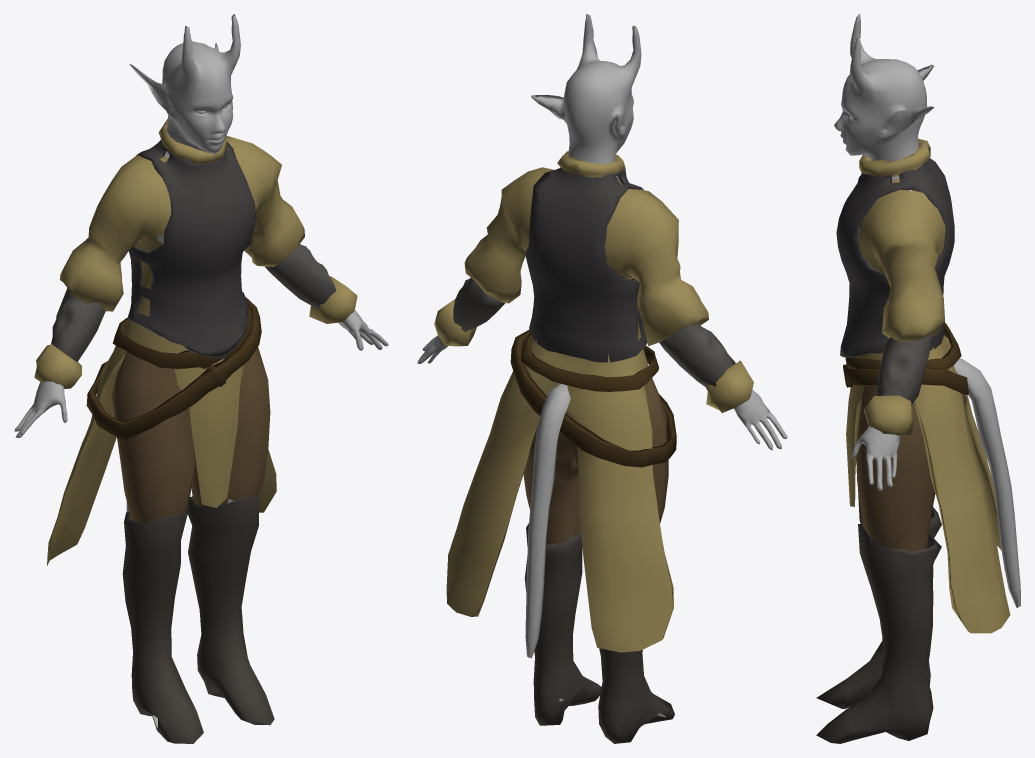
The model's file is phren_low.fbx.
3 renders of one model, left to right at view 1: azimuth 30°, elevation 25°; view 2: azimuth 150°, elevation 25°; view 3: azimuth 270°, elevation 25°, orthographic.
Parts seen in each view (by area): view 1: Clothes_low, Boots_low, Chestpiece_low, Pants_low, Body_low, Armguard_low, Beltlower_low, Beltupper_low; view 2: Clothes_low, Chestpiece_low, Body_low, Boots_low, Pants_low, Armguard_low, Beltlower_low, Beltupper_low; view 3: Clothes_low, Boots_low, Body_low, Chestpiece_low, Pants_low, Armguard_low, Beltlower_low, Beltupper_low.
Boxes of the visible parts, x1,y1,x2,y2 form: Clothes_low: (34,118,357,565); Boots_low: (122,495,274,743); Chestpiece_low: (127,140,255,358); Pants_low: (112,347,270,522); Body_low: (14,14,388,727); Armguard_low: (51,244,335,361); Beltlower_low: (86,297,261,440); Beltupper_low: (112,305,252,369); Clothes_low: (434,151,753,652); Chestpiece_low: (525,167,647,362); Body_low: (417,14,787,717); Boots_low: (524,523,674,743); Pants_low: (523,378,668,544); Armguard_low: (453,277,735,387); Beltlower_low: (510,329,676,467); Beltupper_low: (520,332,658,391); Clothes_low: (846,139,1010,633); Boots_low: (816,489,941,743); Body_low: (834,14,1020,607); Chestpiece_low: (836,158,954,357); Pants_low: (856,385,966,551); Armguard_low: (876,334,931,405); Beltlower_low: (843,364,968,394); Beltupper_low: (845,322,961,369).
Size of the model in its own units: 0.9857 by 1.81 by 0.4797.
